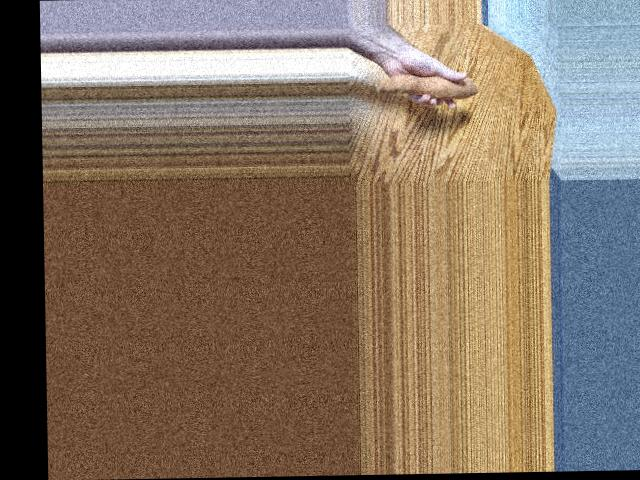sweet_potato: (371, 61, 486, 103)
